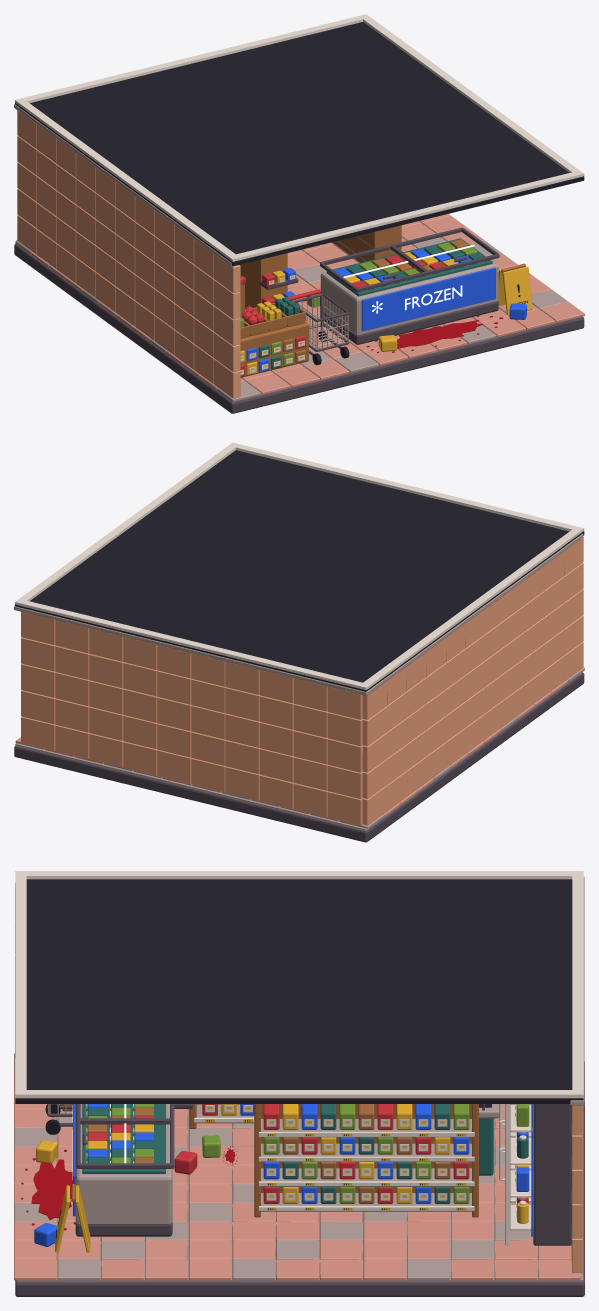
The model's file is bld.supermarket.glb.
3 renders of one model, top to bottom at view 1: azimuth 30°, elevation 25°; view 2: azimuth 150°, elevation 25°; view 3: azimuth 270°, elevation 25°, orthographic. The views are drawn at different scales.
Visible parts, largest first — view 1: roof, interior, door_freezer_00_mesh, door_freezer_01_mesh; view 2: interior, roof; view 3: roof, interior, door_freezer_01_mesh, door_fridge_05_mesh.
Boxes of the visible parts, x1,y1,x2,y2 form: roof: (15, 14, 584, 266); interior: (14, 104, 584, 413); door_freezer_00_mesh: (320, 245, 428, 292); door_freezer_01_mesh: (391, 227, 499, 274); interior: (14, 533, 584, 842); roof: (15, 442, 584, 691); roof: (15, 871, 583, 1103); interior: (14, 877, 584, 1296); door_freezer_01_mesh: (76, 1119, 174, 1168); door_fridge_05_mesh: (499, 1104, 509, 1245).
Bounding box in the file's own units: 8.4 × 3.53 × 9.02.
